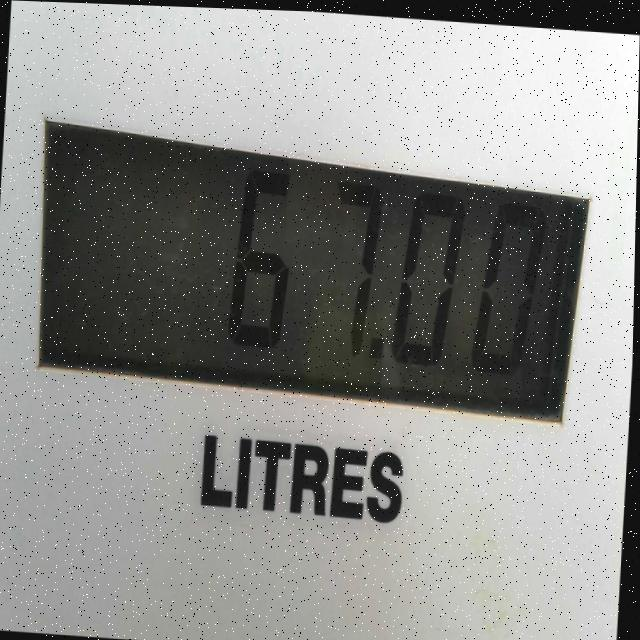.: (363, 328, 390, 377)
0: (387, 174, 475, 370), (472, 192, 554, 395)
6: (220, 160, 316, 354)
7: (314, 173, 382, 376)
